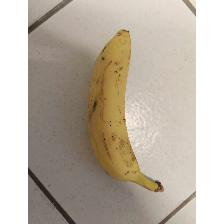Banane: (84, 28, 166, 194)
